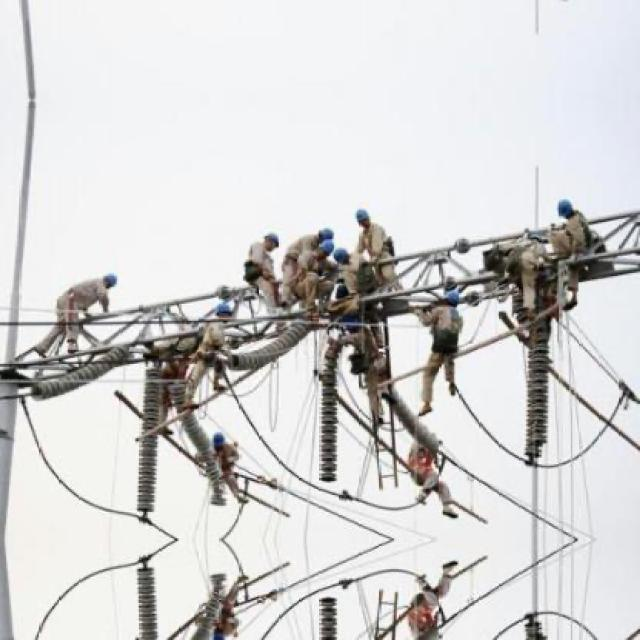con casco: (512, 201, 592, 251), (80, 259, 145, 314), (277, 222, 343, 259), (429, 274, 472, 324), (355, 205, 395, 248), (370, 434, 424, 463)
